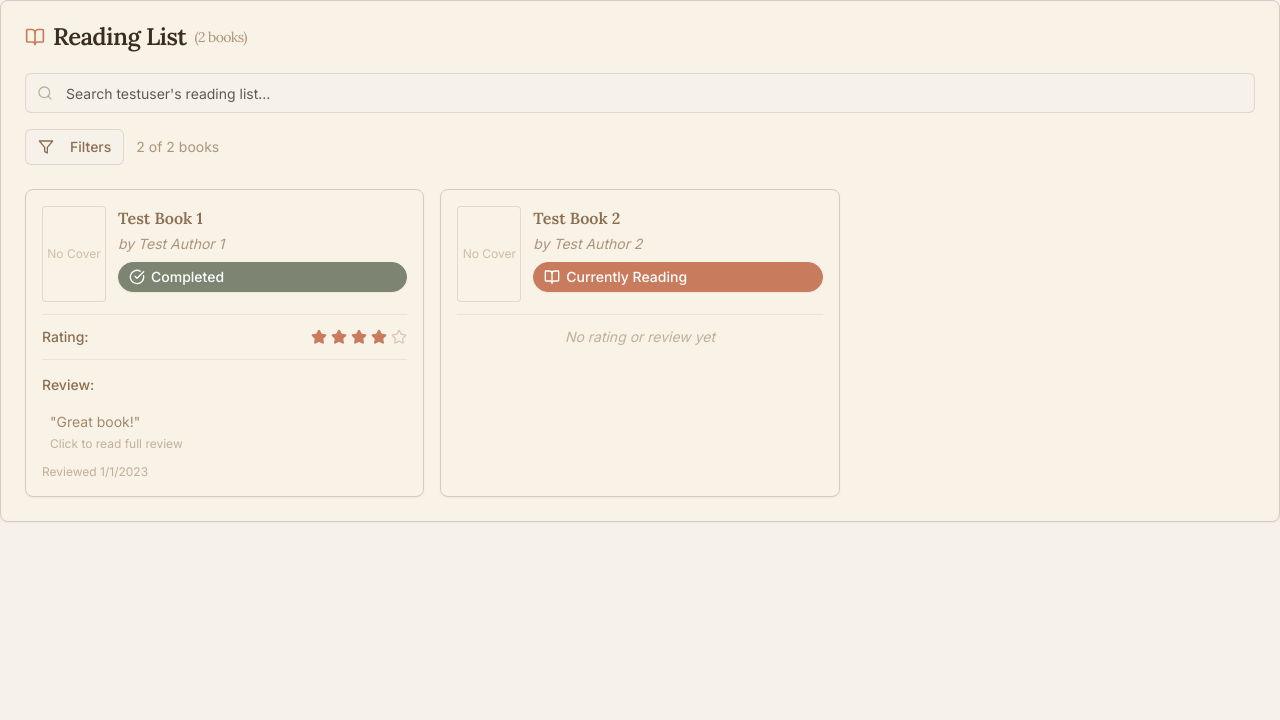
Test case: ProfileReadingListSection › Search Integration › filters books when searching by title
Expected: the text "(2 books)" is shown, [194, 27, 247, 47]
Type "Test Book 1" into the field with placeholder "Search testuser's reading list..." at (640, 93), box [25, 73, 1255, 113]
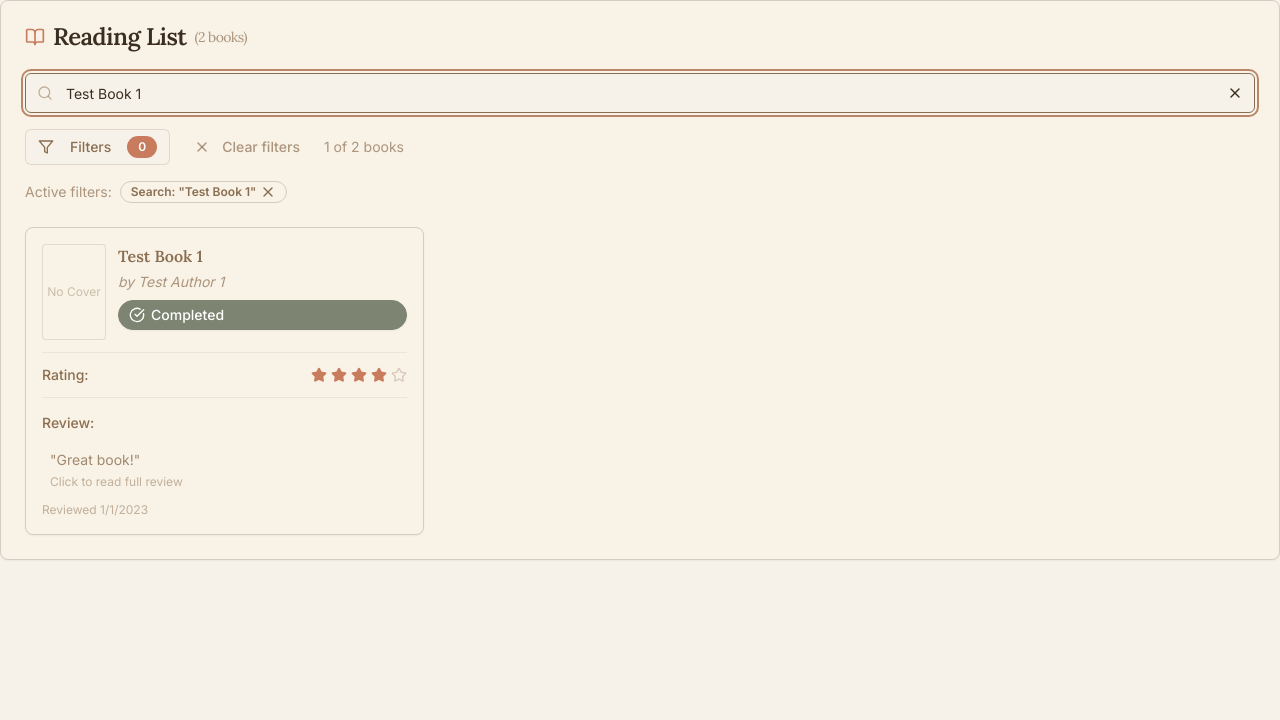
Expected: the heading "Test Book 1" is shown, [118, 246, 203, 266]
Expected: the text "1 of 2 books" is shown, [324, 137, 404, 157]
Expected: the heading "Test Book 2" is gone
